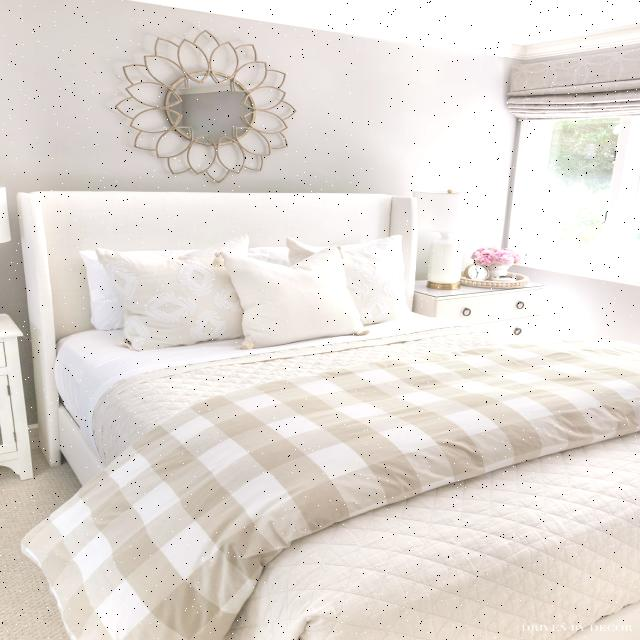bed: (30, 230, 640, 624)
